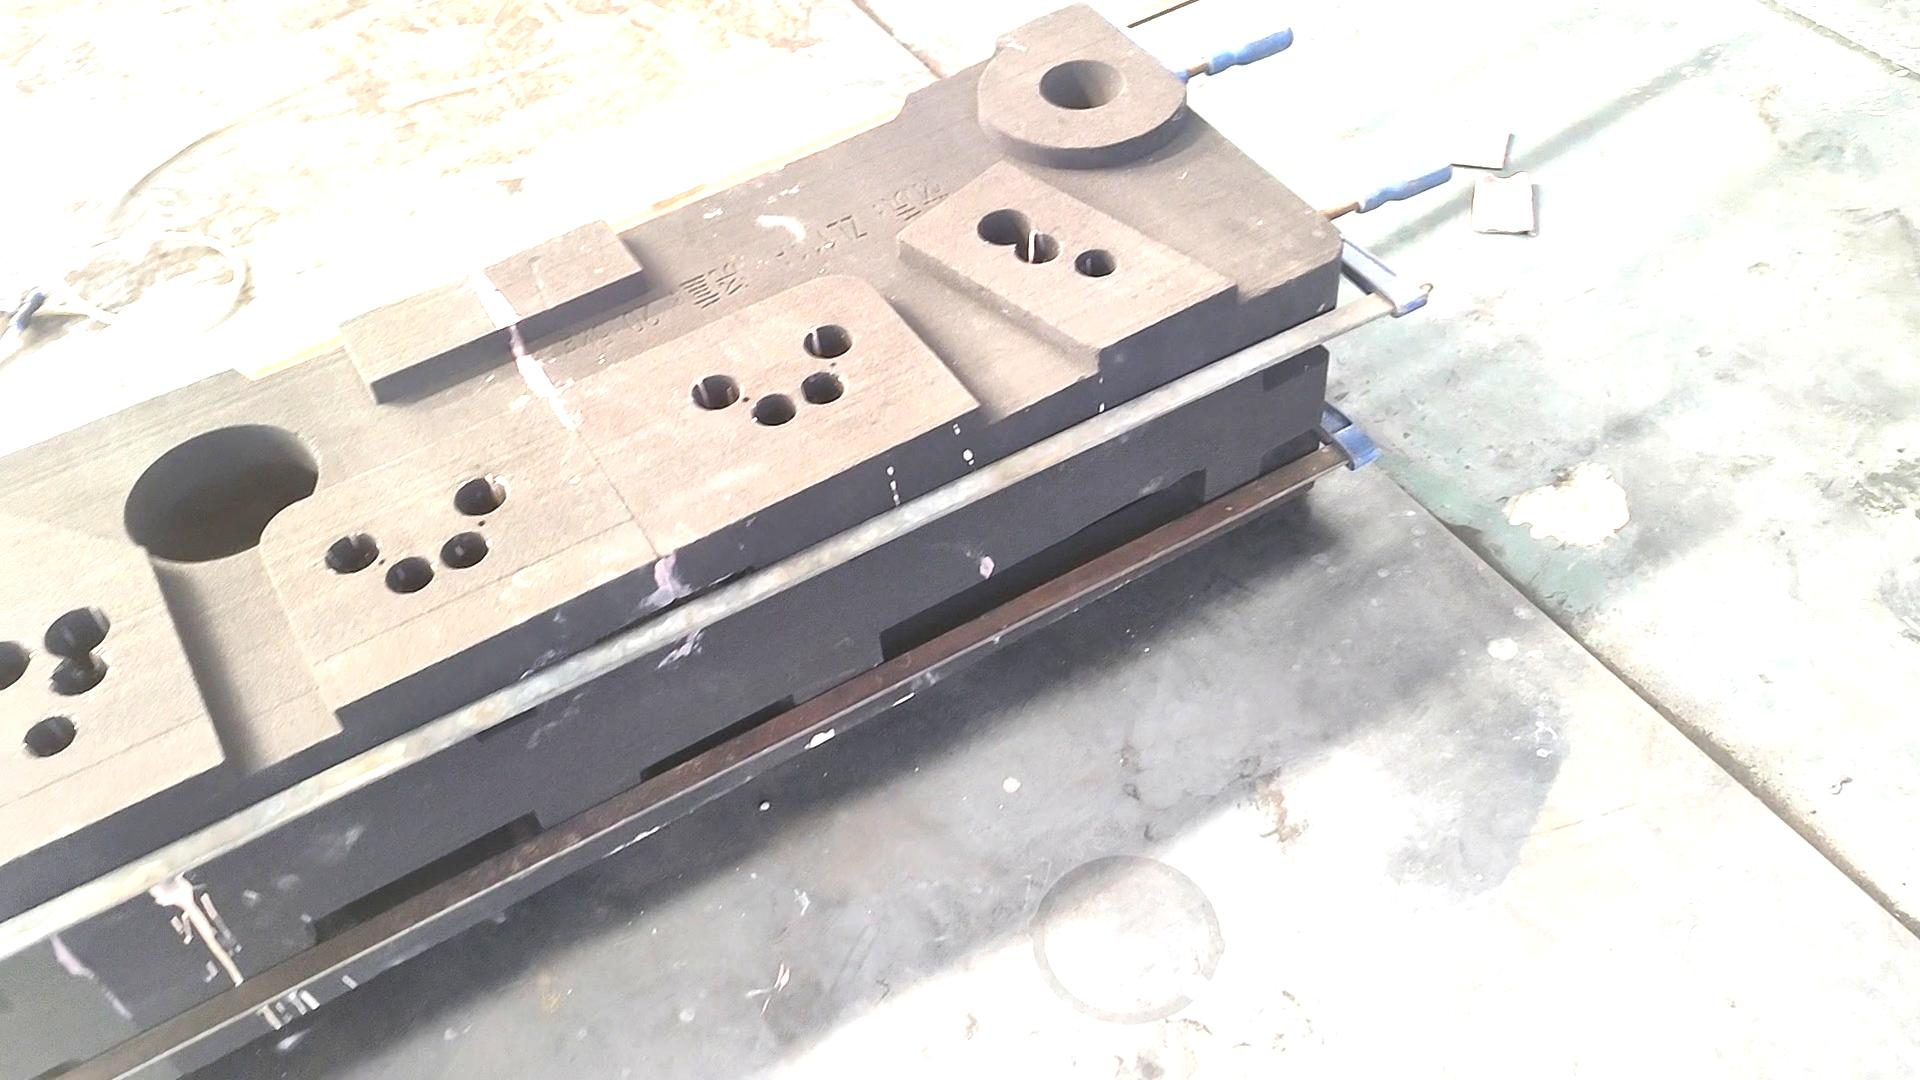pouring hole: (1039, 59, 1124, 109)
